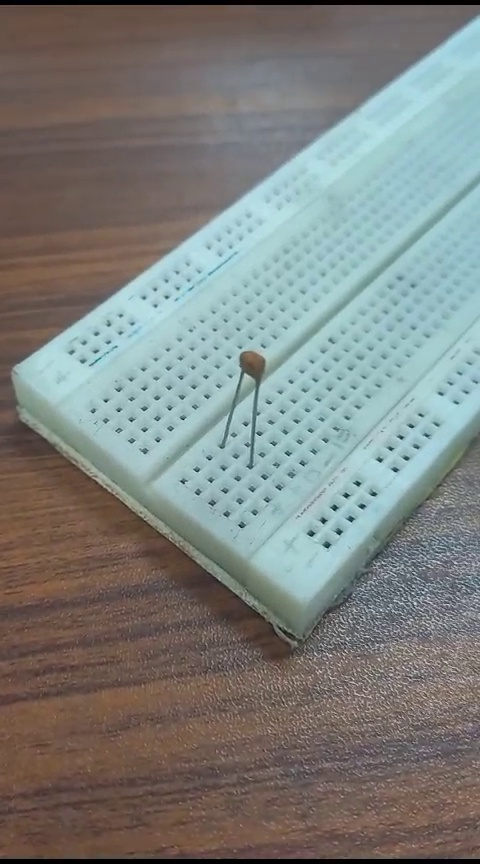ceramic capacitor: (235, 348, 283, 456)
